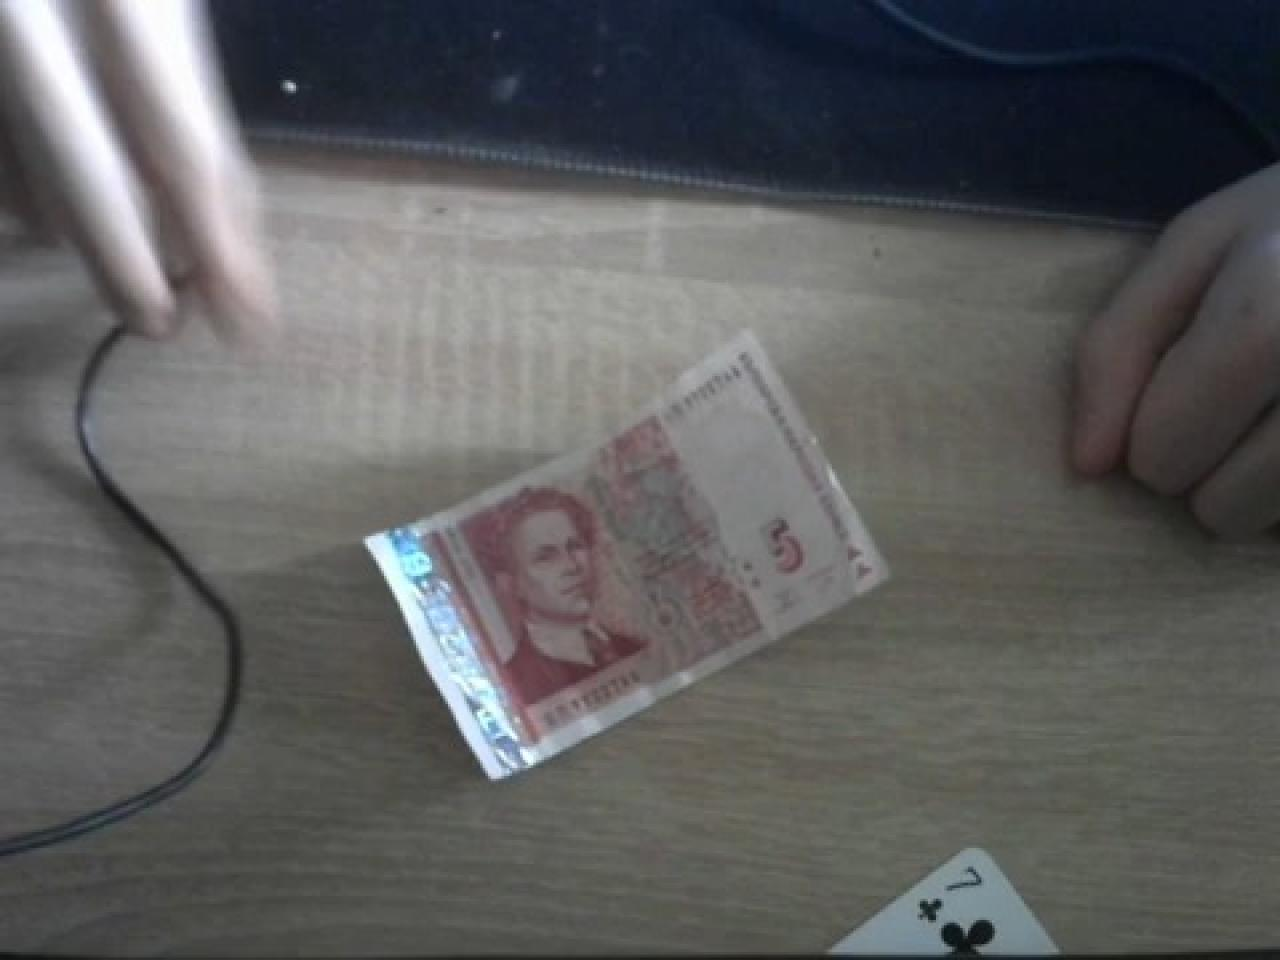5leva: (363, 336, 891, 782)
